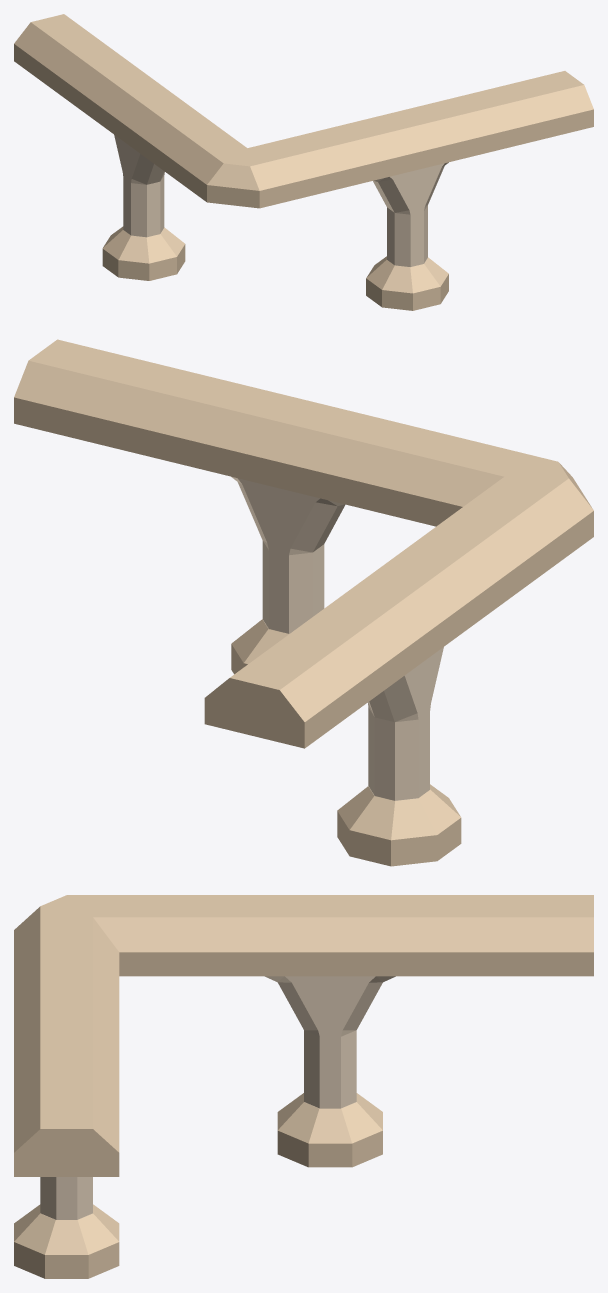
File: opengameart-modular-temple-3d-models.glb
3 views of the same model, one above another, from view 1: azimuth 30°, elevation 25°; view 2: azimuth 150°, elevation 25°; view 3: azimuth 270°, elevation 25° (orthographic). The views are drawn at different scales.
Visible parts, largest first — view 1: object2, object3, object1; view 2: object2, object1, object3; view 3: object2, object1, object3.
Part boxes in pixels (bbox=[...]): object2: bbox=[14, 14, 593, 208]; object3: bbox=[366, 162, 448, 310]; object1: bbox=[102, 134, 185, 280]; object2: bbox=[14, 339, 593, 748]; object1: bbox=[337, 647, 461, 866]; object3: bbox=[231, 476, 345, 674]; object2: bbox=[14, 895, 593, 1176]; object1: bbox=[265, 976, 395, 1167]; object3: bbox=[14, 1177, 119, 1278].
Size of the model in its own units: 1.1 by 0.5 by 1.1.
